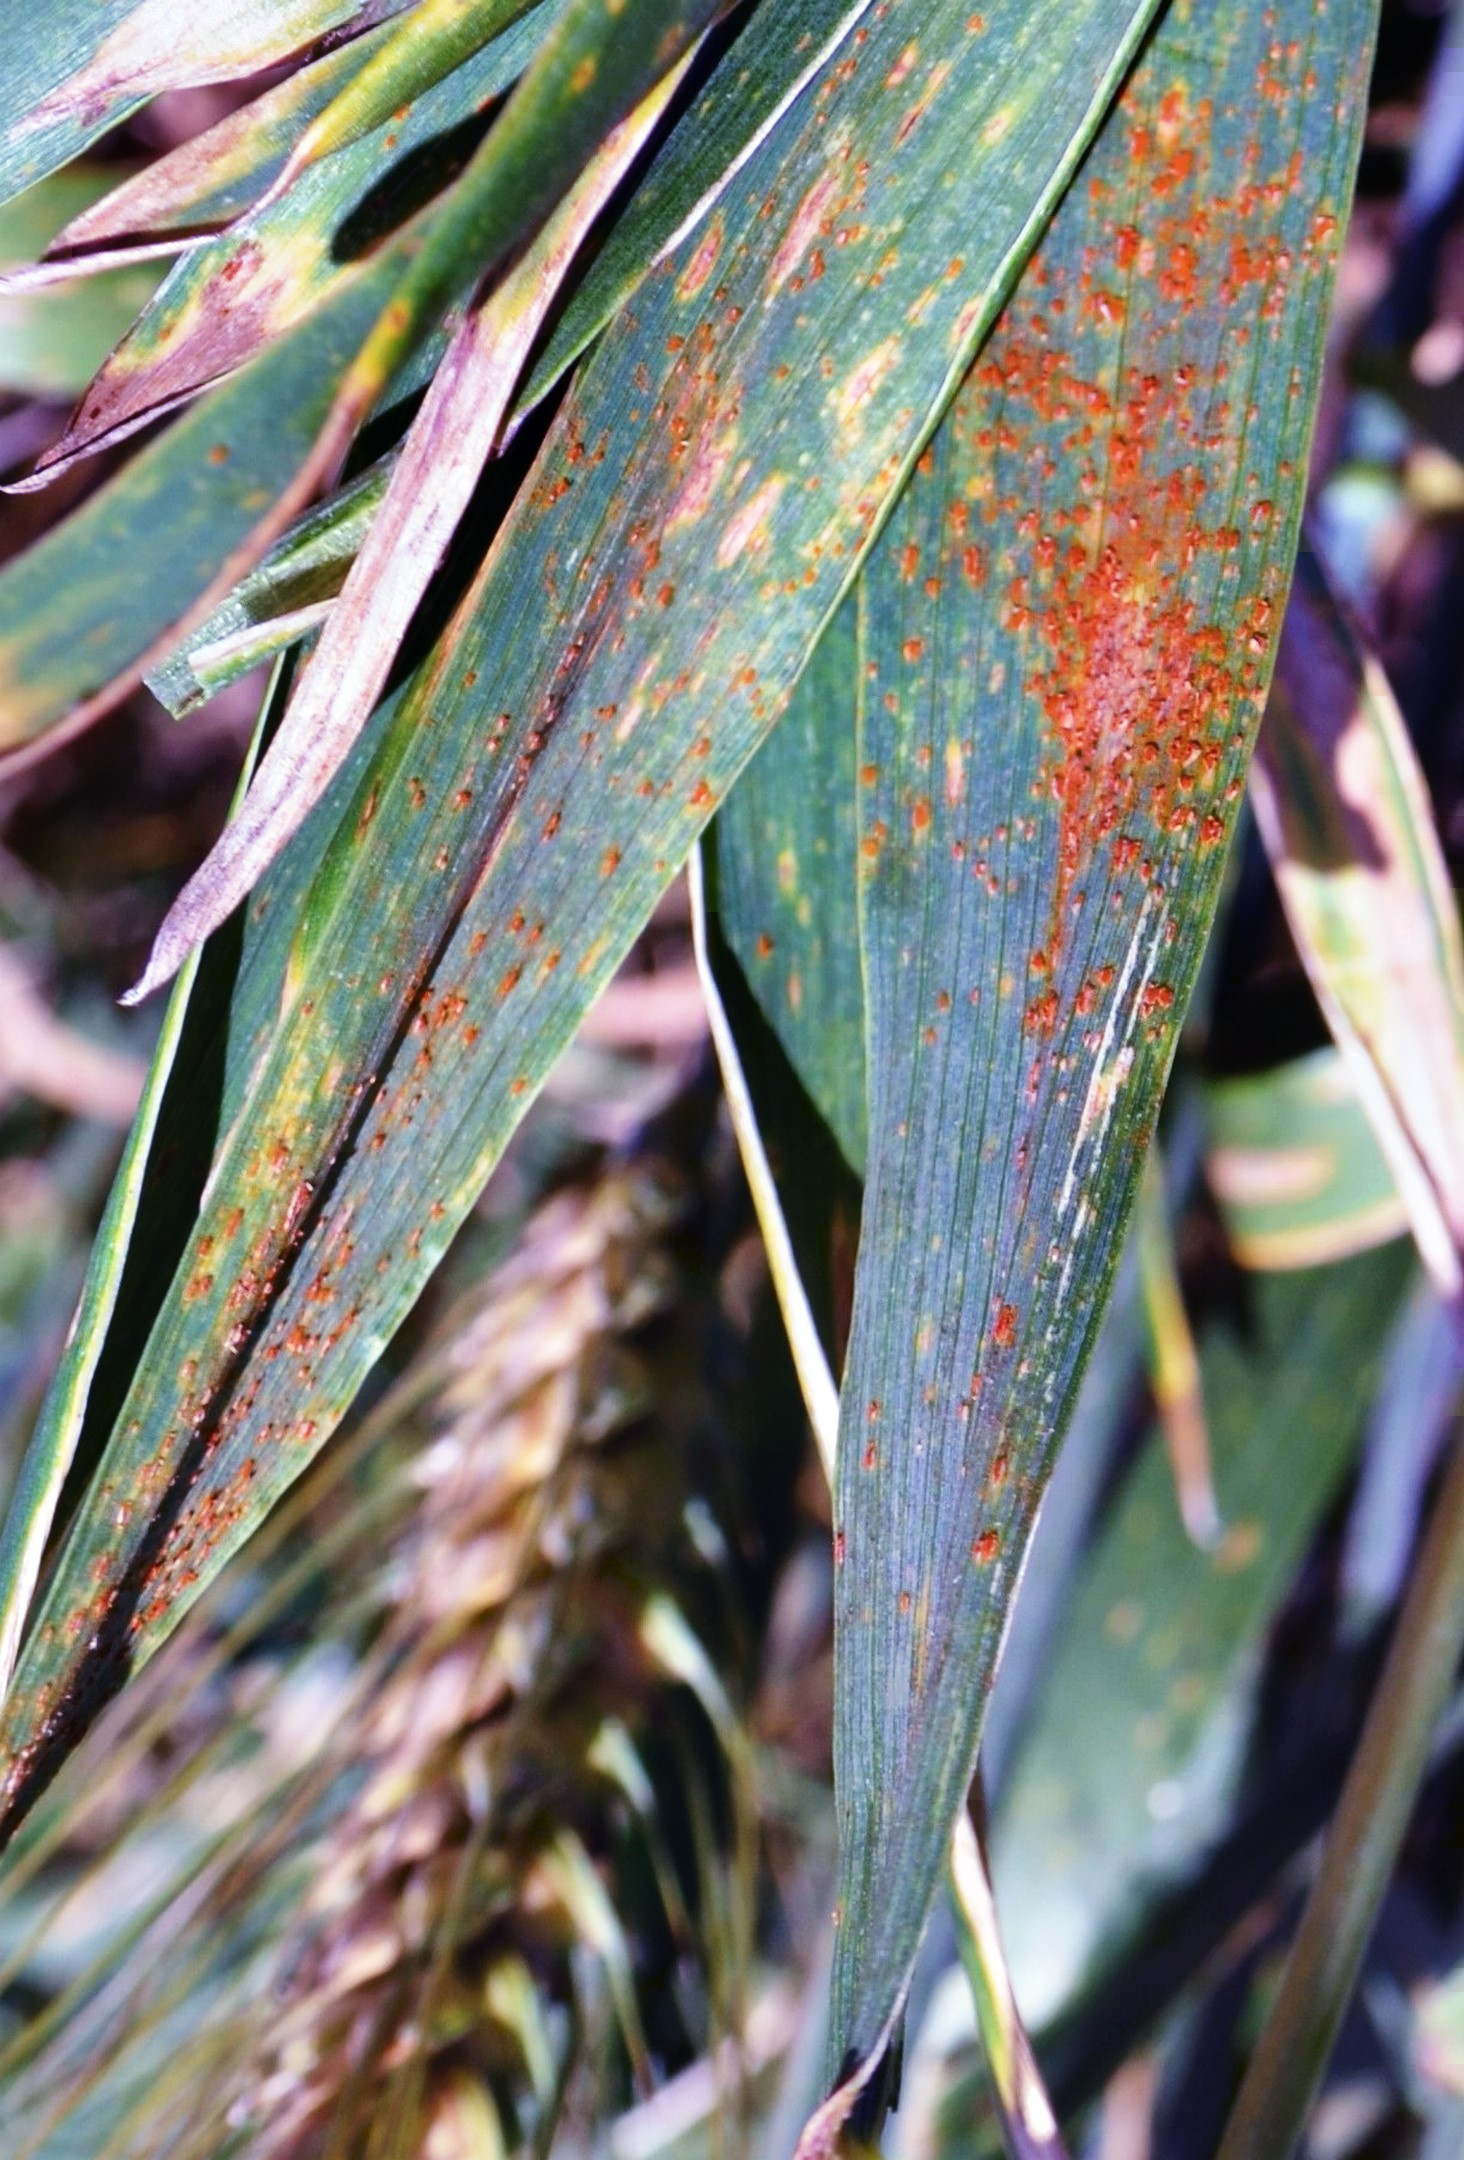Leaf Rust: (65, 328, 757, 1516), (838, 91, 1368, 1533)
